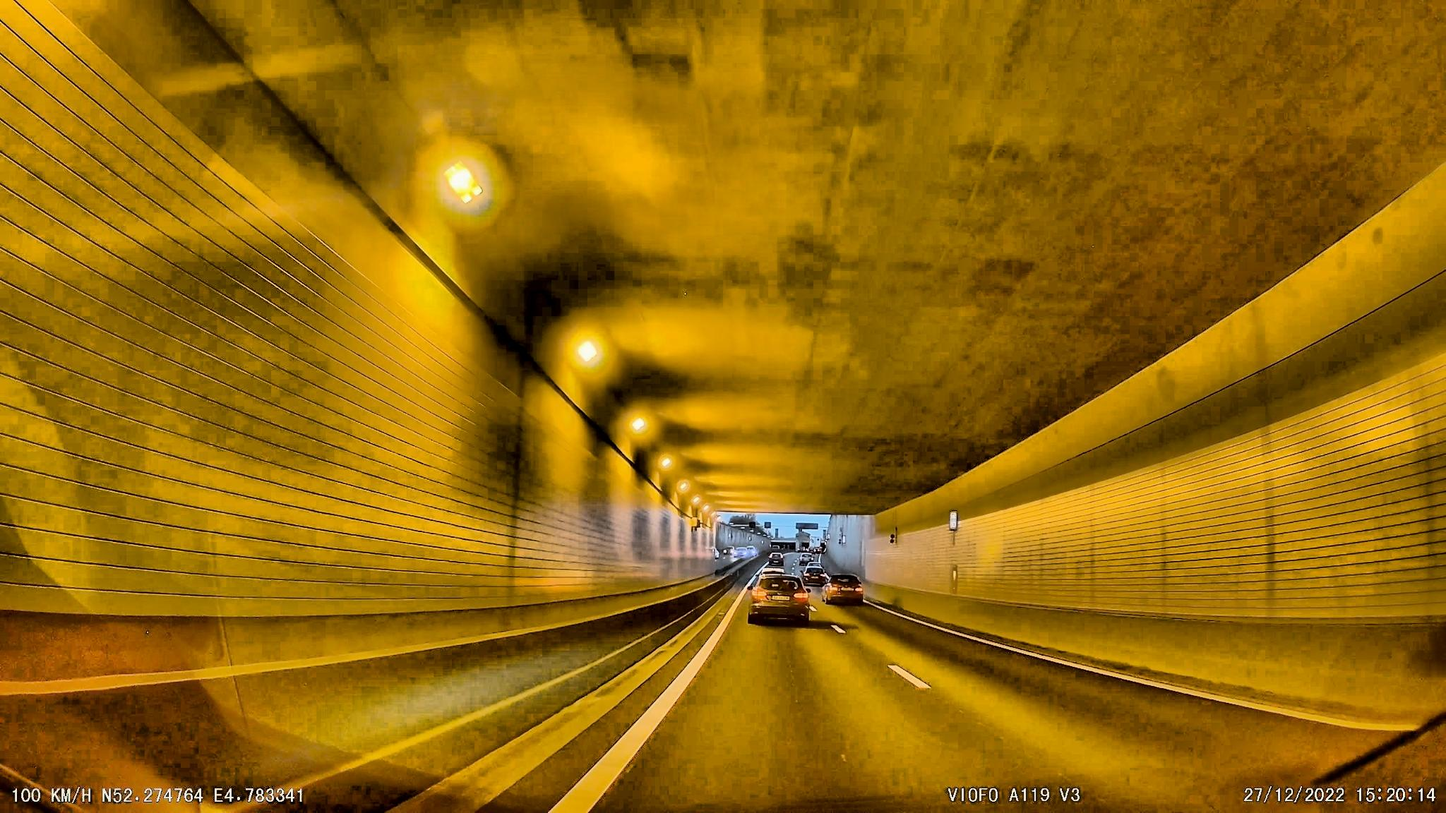Roads: (475, 605, 1446, 813)
